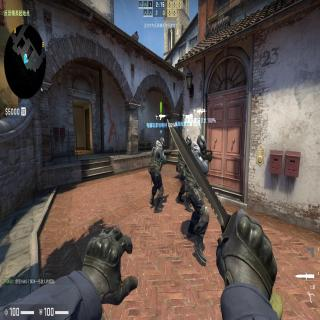CT-Head: (197, 134, 206, 153), (186, 135, 192, 148), (159, 136, 165, 148)
